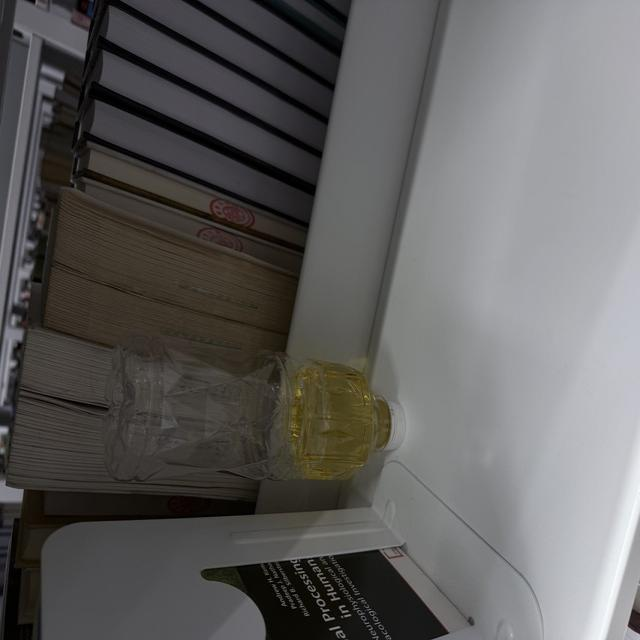low: (104, 335, 404, 480)
